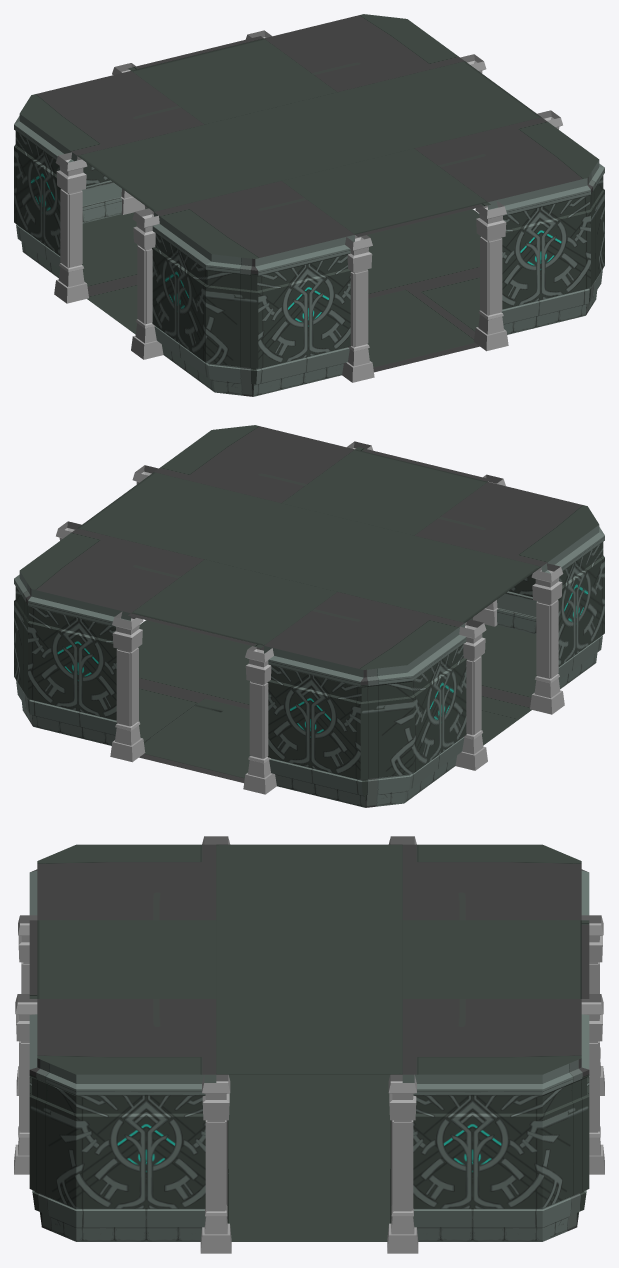
Rendered from Room.fbx.
The picture shows the model from 3 angles, top to bottom: view 1: azimuth 30°, elevation 25°; view 2: azimuth 150°, elevation 25°; view 3: azimuth 270°, elevation 25°; orthographic projection. The views are drawn at different scales.
Visible parts, largest first — view 1: room, Pillar11, Pillar19, Pillar16, Pillar12, Pillar17; view 2: room, Pillar12, Pillar18, Pillar17, Pillar11, Pillar16; view 3: room, Pillar14, Pillar13, Pillar18, Pillar19, Pillar17, Pillar16.
Part boxes in pixels (left/top/right/bottom): room: left=14, top=14, right=604, bottom=396; Pillar11: left=54, top=152, right=88, bottom=303; Pillar19: left=473, top=200, right=508, bottom=351; Pillar16: left=342, top=235, right=374, bottom=382; Pillar12: left=131, top=208, right=163, bottom=359; Pillar17: left=112, top=63, right=144, bottom=214; room: left=14, top=425, right=604, bottom=807; Pillar12: left=530, top=563, right=564, bottom=714; Pillar18: left=110, top=611, right=145, bottom=762; Pillar17: left=243, top=646, right=276, bottom=794; Pillar11: left=455, top=619, right=487, bottom=770; Pillar16: left=473, top=474, right=505, bottom=626; room: left=29, top=844, right=589, bottom=1241; Pillar14: left=200, top=1074, right=231, bottom=1253; Pillar13: left=387, top=1074, right=418, bottom=1253; Pillar18: left=581, top=994, right=604, bottom=1174; Pillar19: left=14, top=994, right=37, bottom=1174; Pillar17: left=581, top=915, right=604, bottom=1095; Pillar16: left=16, top=915, right=37, bottom=1095.
Bounding box in the file's own units: 950 × 300 × 950.
Materials: 2 (1 with a texture image).
